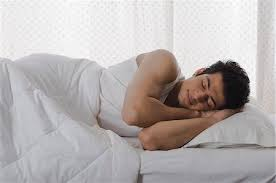sleeping: (1, 50, 255, 152)
